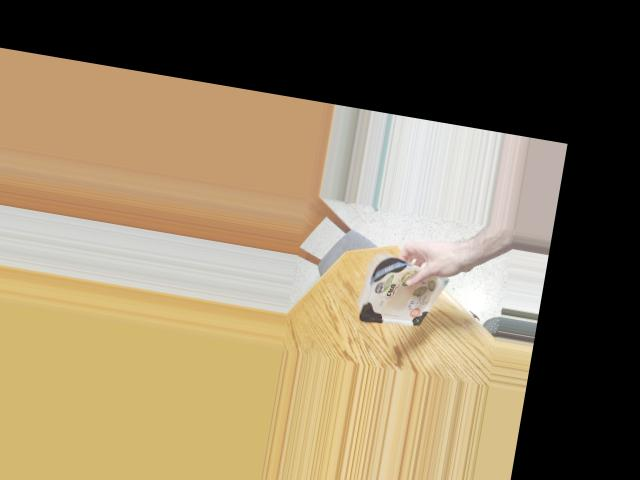cheese: (351, 248, 436, 328)
